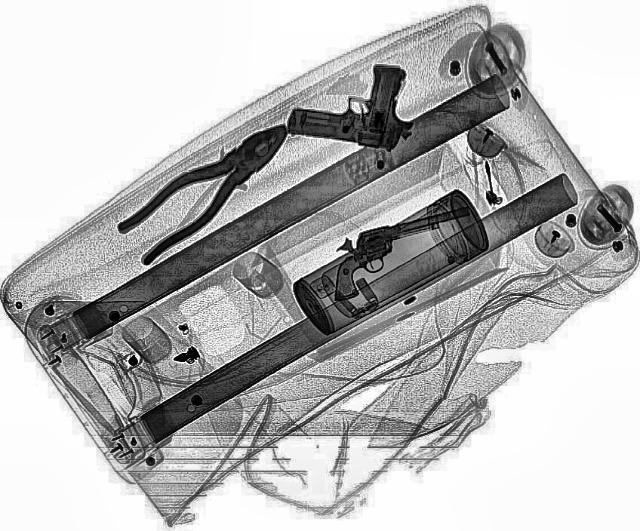Gun: (310, 204, 494, 302), (283, 52, 427, 152)
Pliers: (103, 108, 311, 264)
